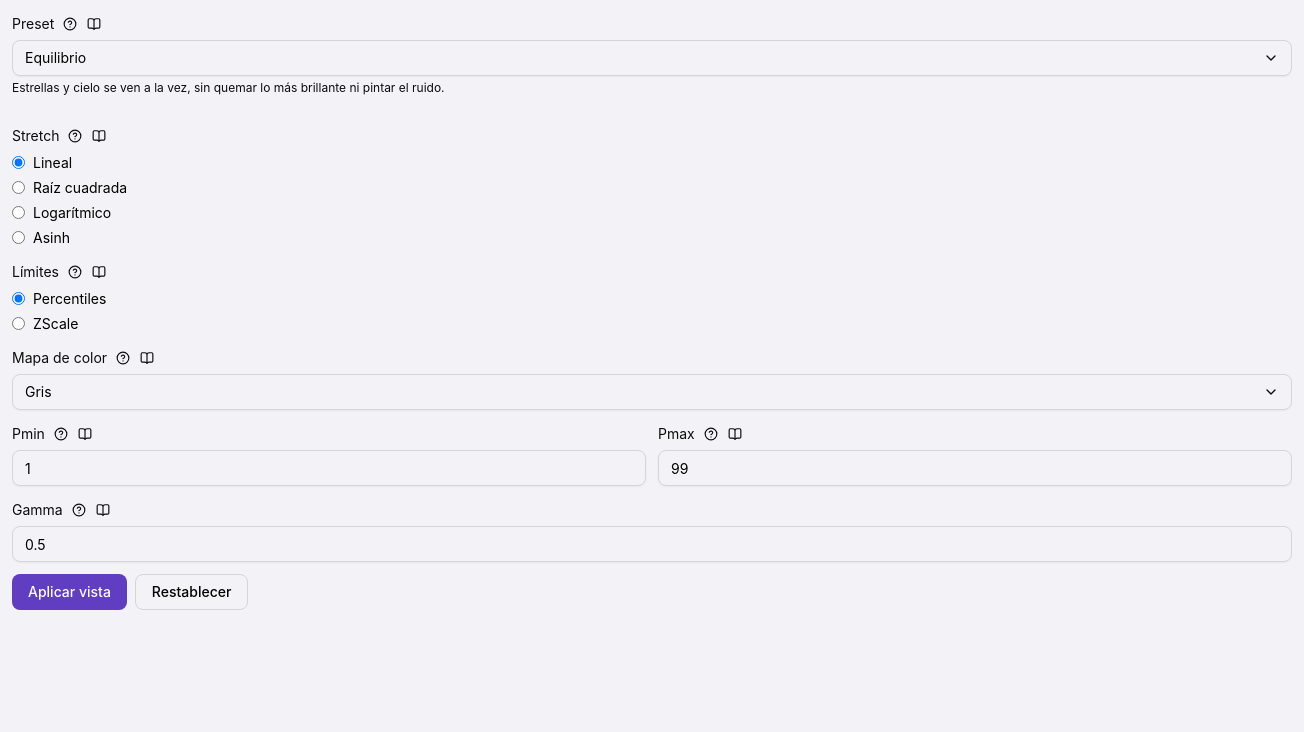
Test: RenderViewForm › marks the preset as custom after a manual field change
The image size is (1304, 732).
Click the radio button with test id "render-field-stretch-log" at (18,212), box [12, 206, 25, 219]
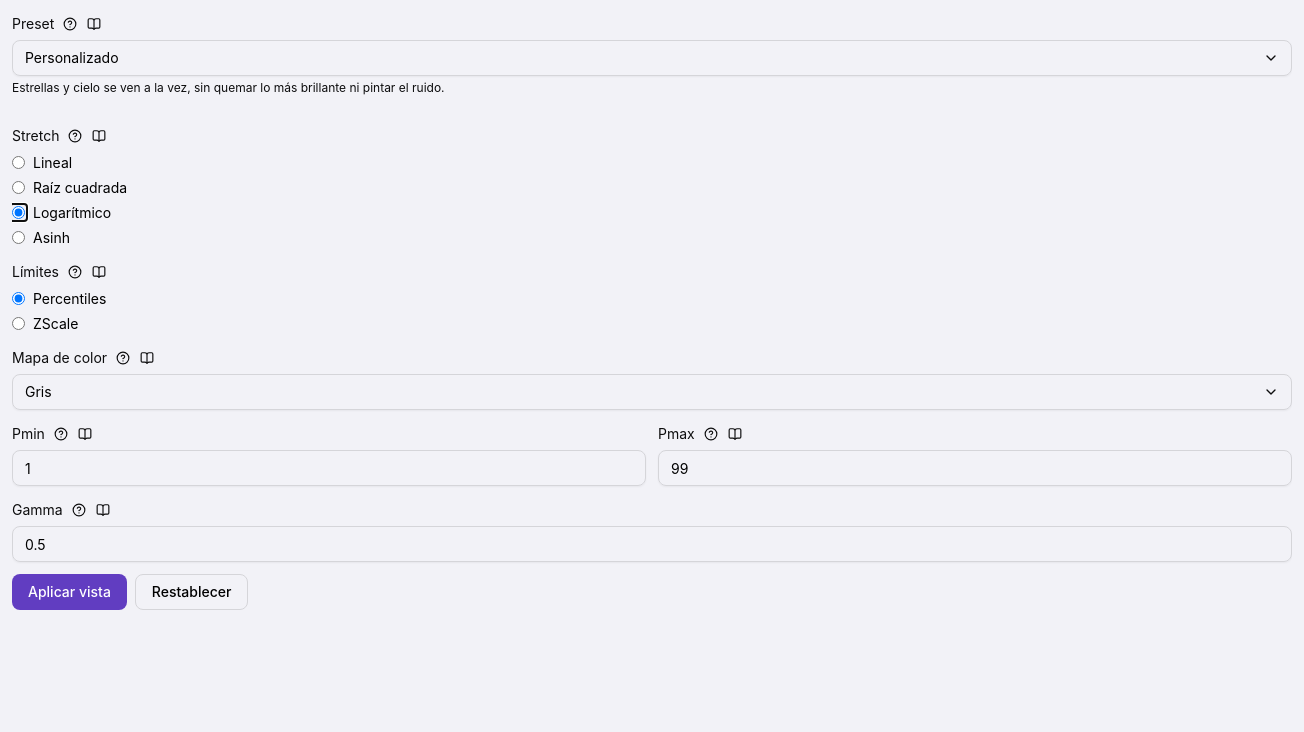
Expected: the text with test id "render-preset-outcome" shows "Estrellas y cielo", [12, 80, 445, 95]
Expected: the dropdown with test id "render-preset" reads "Personalizado", [12, 40, 1292, 76]
